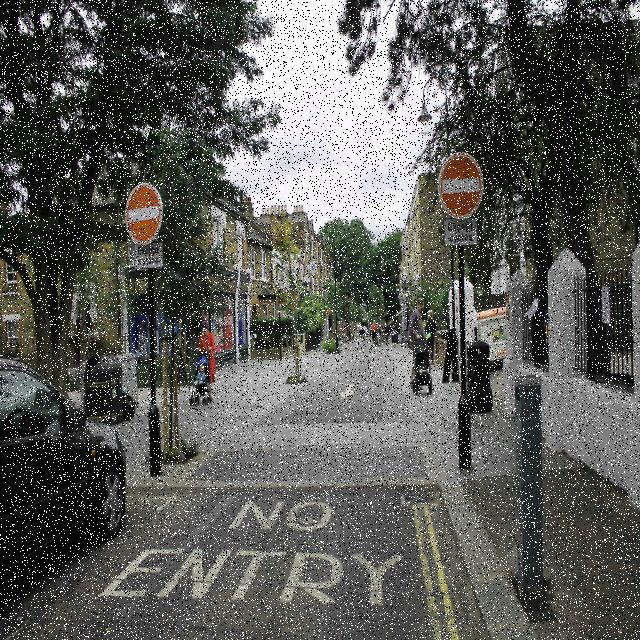no entry: (437, 153, 484, 214), (127, 182, 161, 240)
